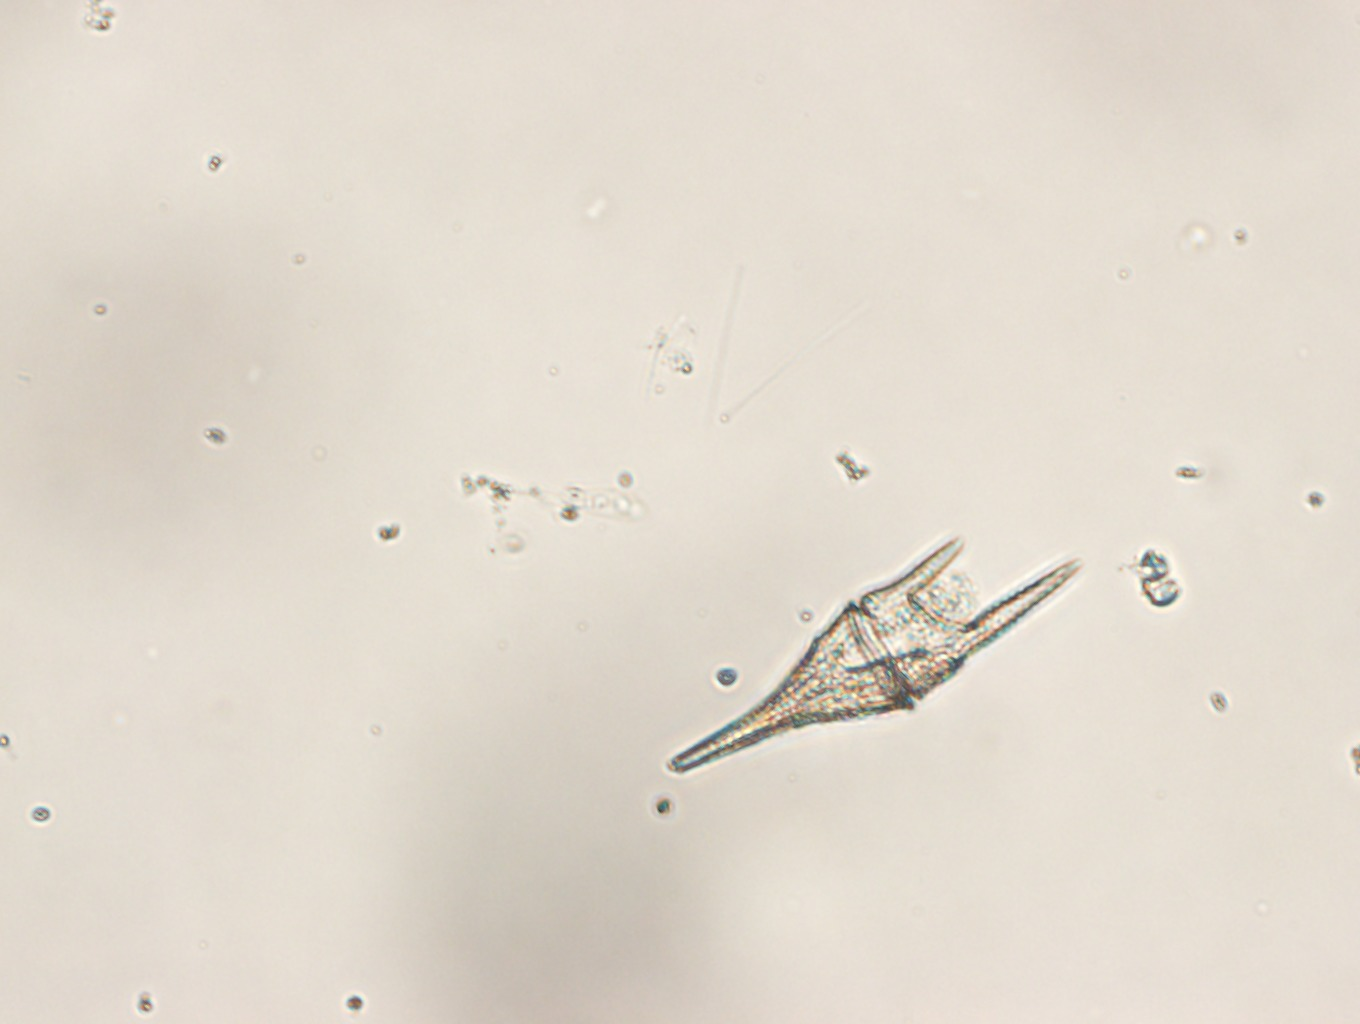ceratium furca: (669, 538, 1079, 774)
